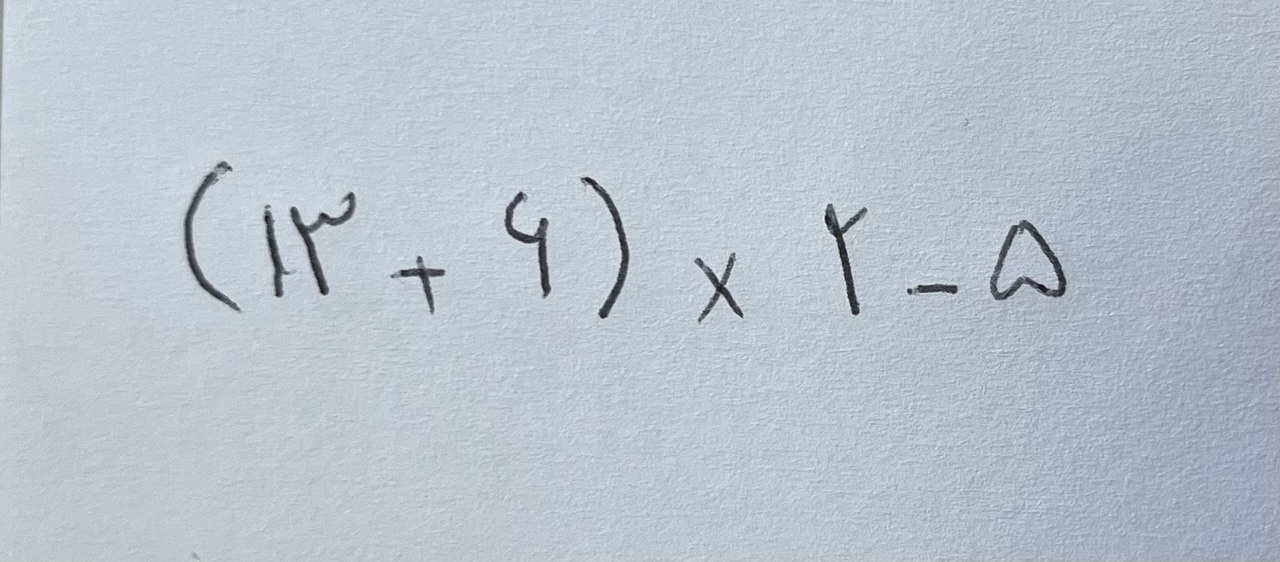character: (183, 160, 247, 317), (579, 177, 630, 320), (290, 192, 357, 295), (989, 218, 1069, 301), (503, 190, 552, 301), (823, 203, 869, 317), (694, 251, 745, 326), (389, 255, 446, 317), (263, 203, 299, 301), (905, 284, 960, 297)
